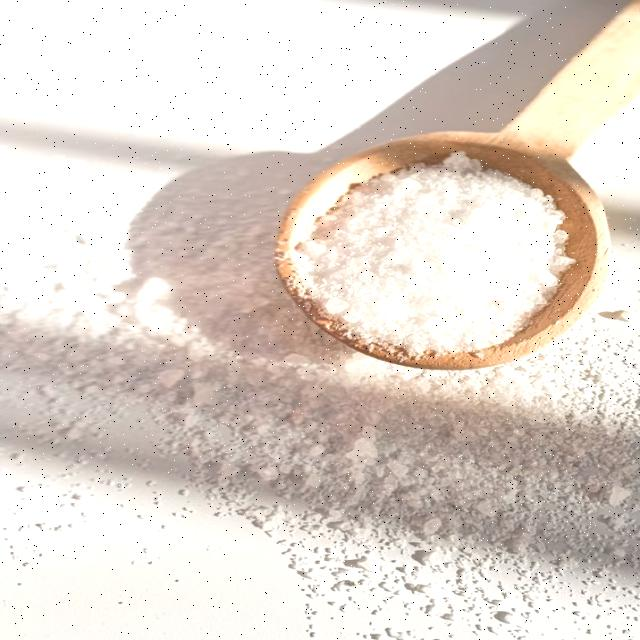Salt: (264, 339, 574, 571), (389, 172, 508, 323)
